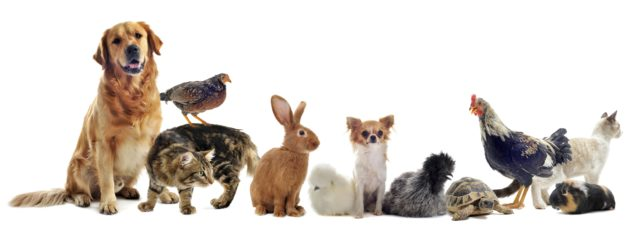cat: (136, 120, 262, 225), (567, 101, 637, 182)
chicken: (455, 82, 575, 214), (156, 64, 244, 128)
dog: (61, 9, 156, 232), (339, 107, 397, 220)
rabbit: (259, 85, 320, 230)
